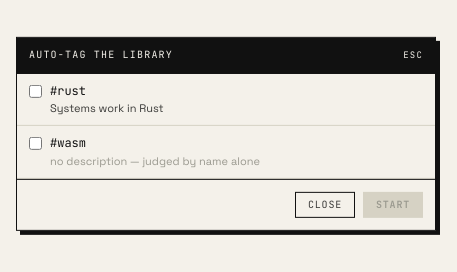
it: AutoTagModal › prices the run before it is started
Click the checkbox labelled "#rust Systems work in Rust" at (36, 91), box [29,84,42,97]
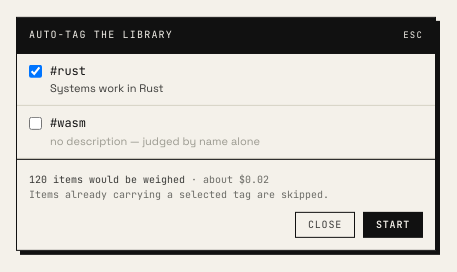
Expected: the text "120 items would be weighed" is shown, [29,173,185,186]
Expected: the text "about $0.02" is shown, [203,173,269,186]
Expected: the text "Items already carrying a selected tag are skipped." is shown, [29,188,329,201]
